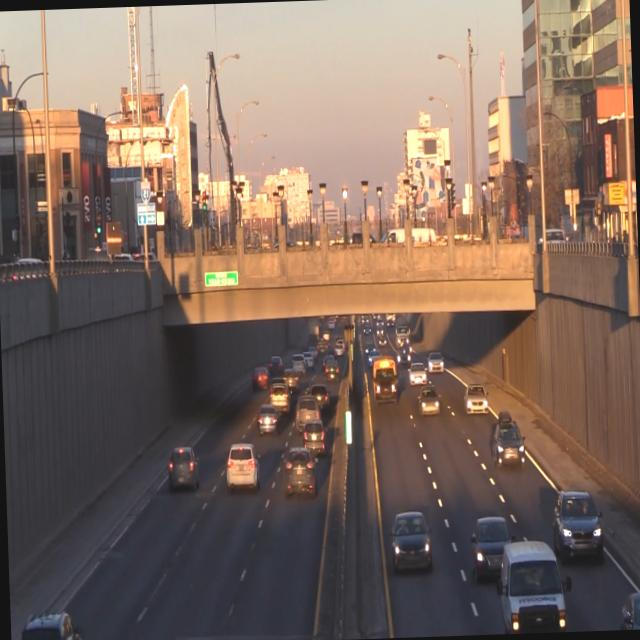Vehicle: (499, 542, 566, 634), (550, 487, 603, 562), (390, 507, 431, 577), (470, 516, 510, 576), (489, 414, 526, 475), (224, 441, 262, 494), (282, 448, 318, 498), (167, 446, 200, 492), (371, 356, 398, 404), (302, 418, 328, 456), (294, 394, 320, 432), (416, 384, 442, 418), (266, 383, 292, 417), (462, 384, 489, 416), (256, 404, 280, 438), (308, 384, 328, 412), (406, 362, 426, 387), (426, 352, 444, 373)
